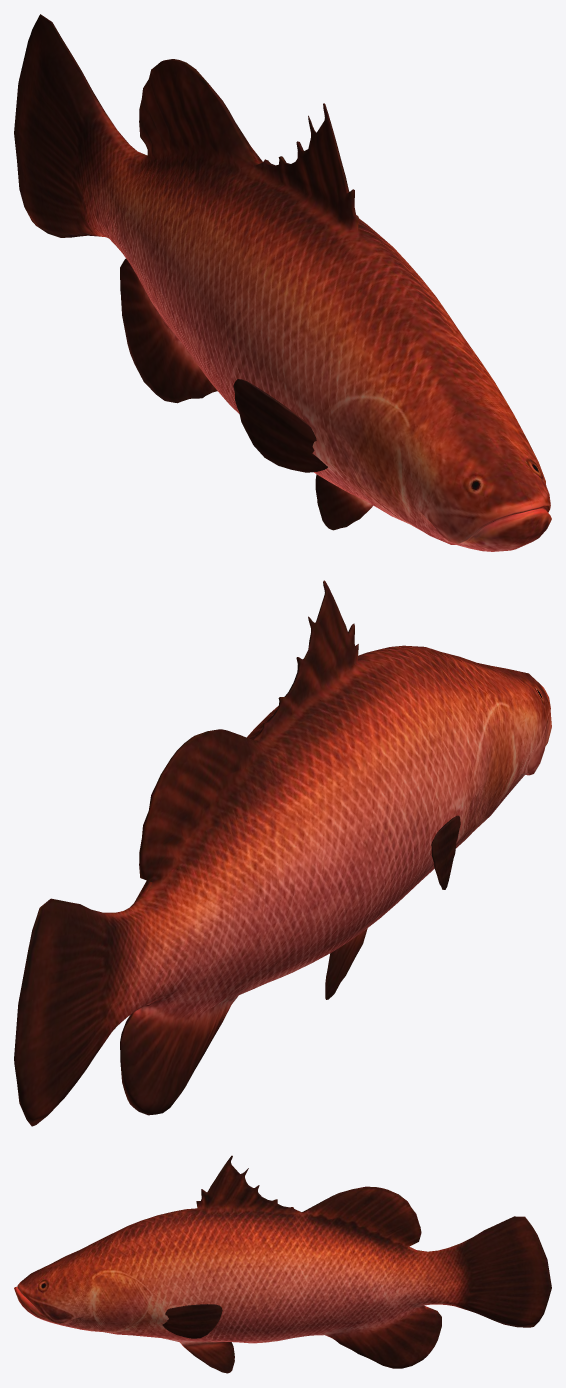
File: aurora_salmon.glb
The picture shows the model from 3 angles, top to bottom: view 1: azimuth 30°, elevation 25°; view 2: azimuth 150°, elevation 25°; view 3: azimuth 270°, elevation 25°; orthographic projection. The views are drawn at different scales.
Visible parts, largest first — view 1: BarramundiFish; view 2: BarramundiFish; view 3: BarramundiFish.
Boxes of the visible parts, <box> form: BarramundiFish: <box>14,14,551,551</box>; BarramundiFish: <box>14,580,551,1126</box>; BarramundiFish: <box>14,1155,551,1373</box>.
Bounding box in the file's own units: 0.1429 × 0.2875 × 0.6431.
1 material, 1 textured.
